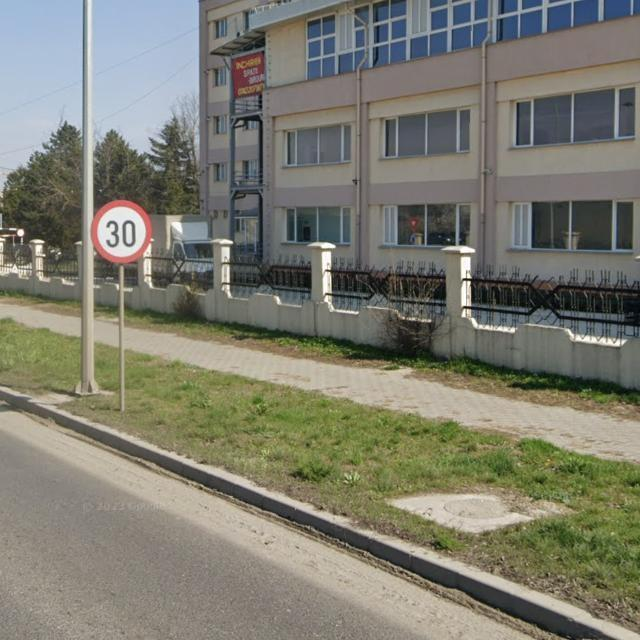forb_speed_over_30: (89, 199, 155, 264)
